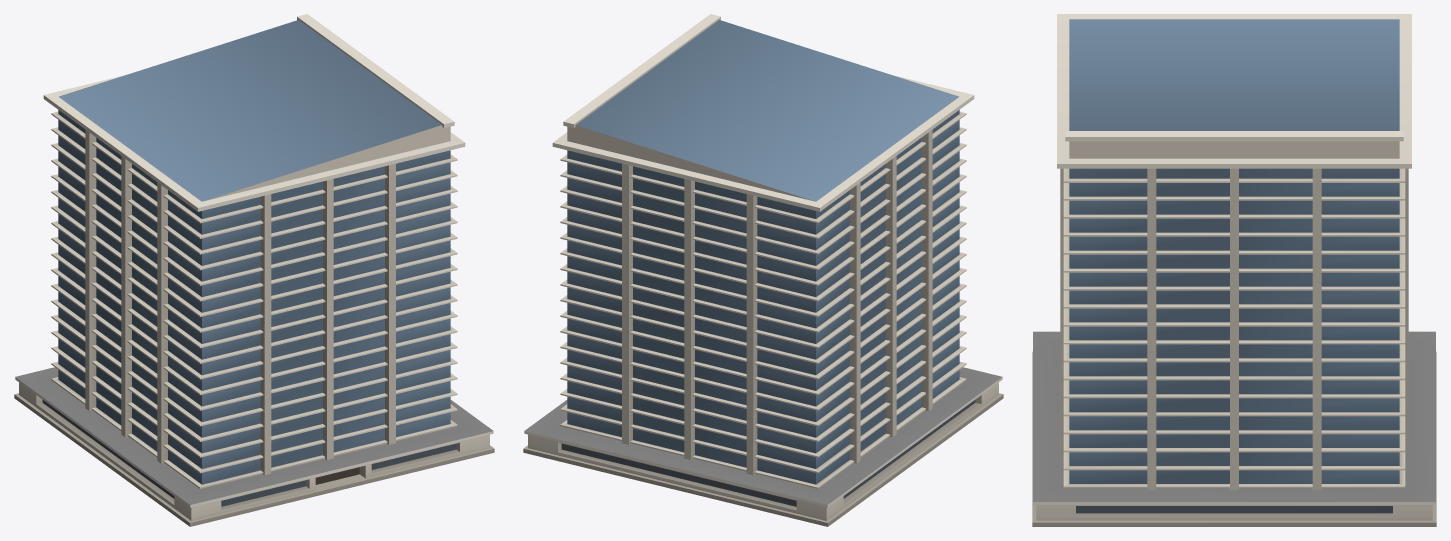
File: building-tower-glass.glb
3 views of the same model, side by side, from view 1: azimuth 30°, elevation 25°; view 2: azimuth 150°, elevation 25°; view 3: azimuth 270°, elevation 25° (orthographic). The views are drawn at different scales.
Parts seen in each view (by area): view 1: Building; view 2: Building; view 3: Building.
Boxes of the visible parts, x1,y1,x2,y2 form: Building: (14, 14, 494, 526); Building: (523, 14, 1003, 526); Building: (1032, 14, 1436, 526).
Bounding box in the file's own units: 0.98 × 1 × 0.98.
